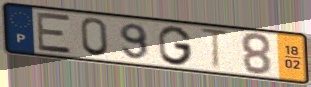0: (79, 17, 110, 58)
8: (240, 31, 275, 77)
9: (117, 22, 153, 61)
E: (35, 11, 75, 55)
G: (156, 24, 195, 67)
T: (198, 26, 232, 73)
